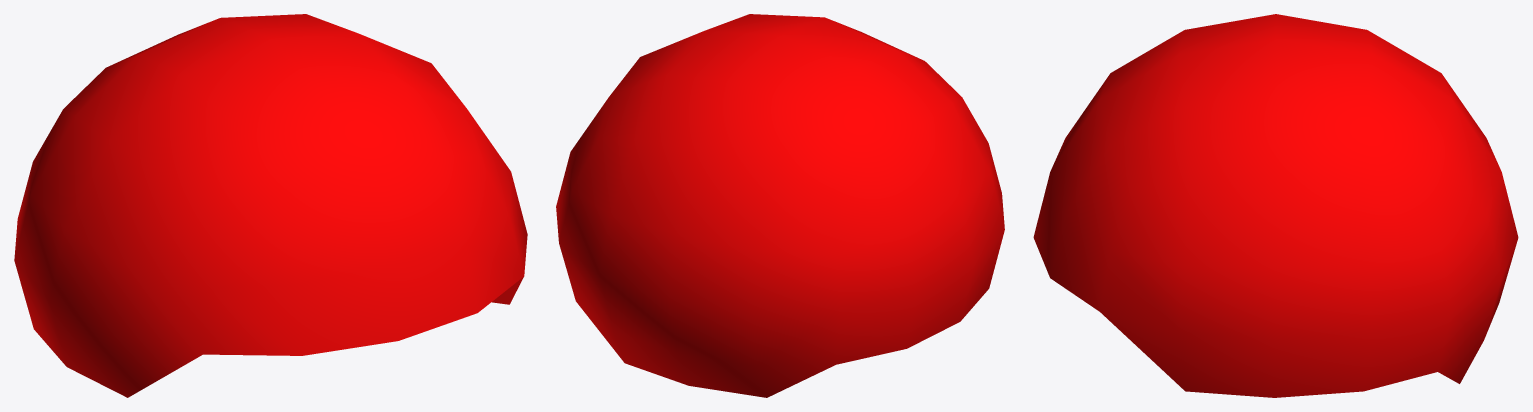
The model's file is helmet.fbx.
3 views of the same model, side by side, from view 1: azimuth 30°, elevation 25°; view 2: azimuth 150°, elevation 25°; view 3: azimuth 270°, elevation 25° (orthographic). The views are drawn at different scales.
Parts seen in each view (by area): view 1: helmet; view 2: helmet; view 3: helmet.
Part boxes in pixels (box(x1,y1,x2,y2)): helmet: box(14, 14, 527, 397); helmet: box(556, 14, 1004, 397); helmet: box(1033, 14, 1518, 397).
Bounding box in the file's own units: 143 × 99.69 × 143.
